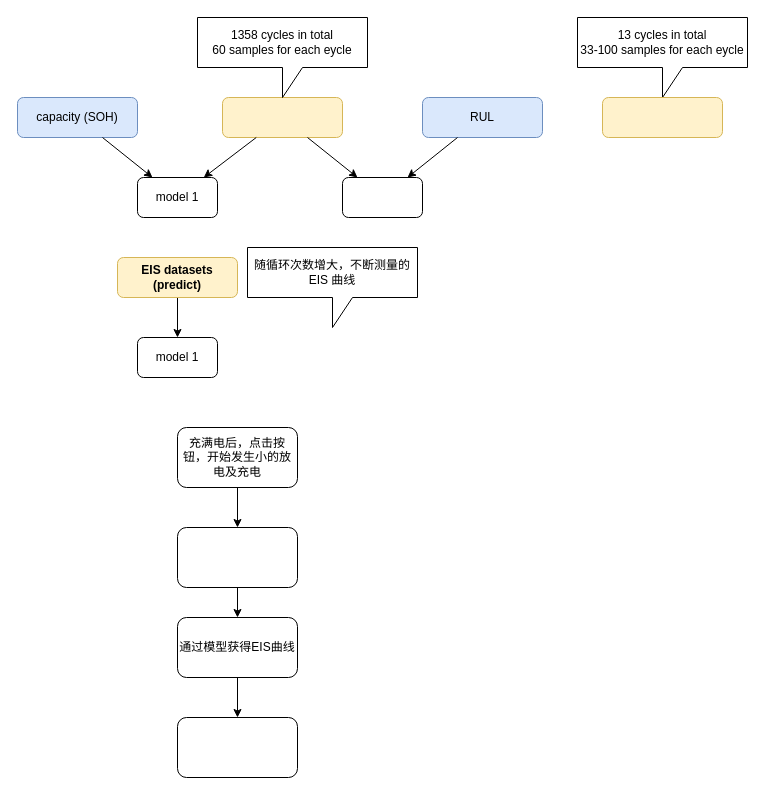
Image size: 765x795. Some labels were removed from this diagram. The centre of each missing label's shape, as x and y in pixels:
EIS datasets: the point at 282,117
model 2: the point at 382,197
Our EIS datasets: the point at 662,117
获得一小段充放电曲线: the point at 237,557
通过一条EIS曲线及训练好的模型获得SOH及RUL: the point at 237,747
